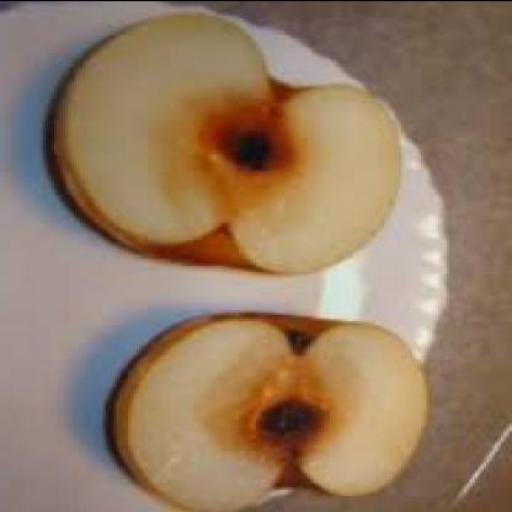biodegradable: (51, 8, 407, 270), (108, 310, 435, 510)
